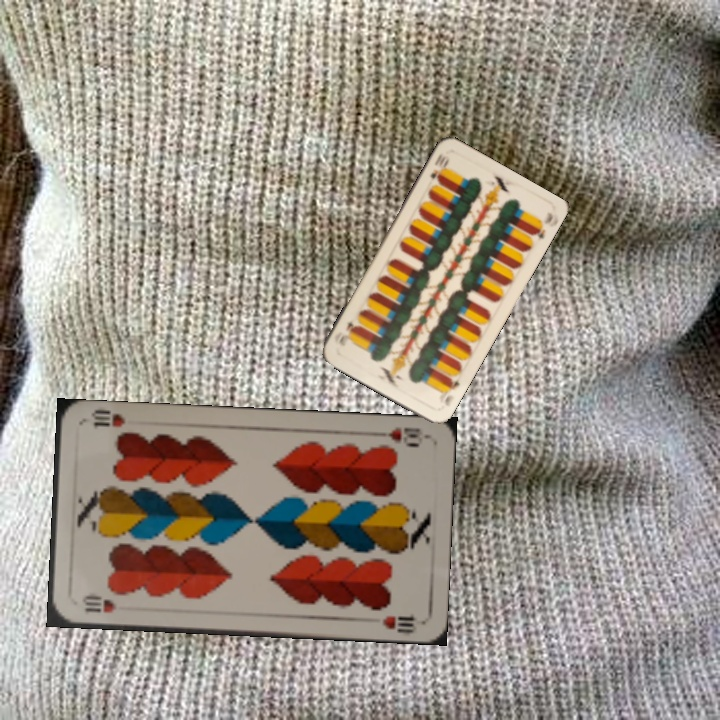E10: (426, 150, 452, 184), (440, 374, 462, 409)
H10: (384, 423, 423, 449), (78, 593, 118, 615)
